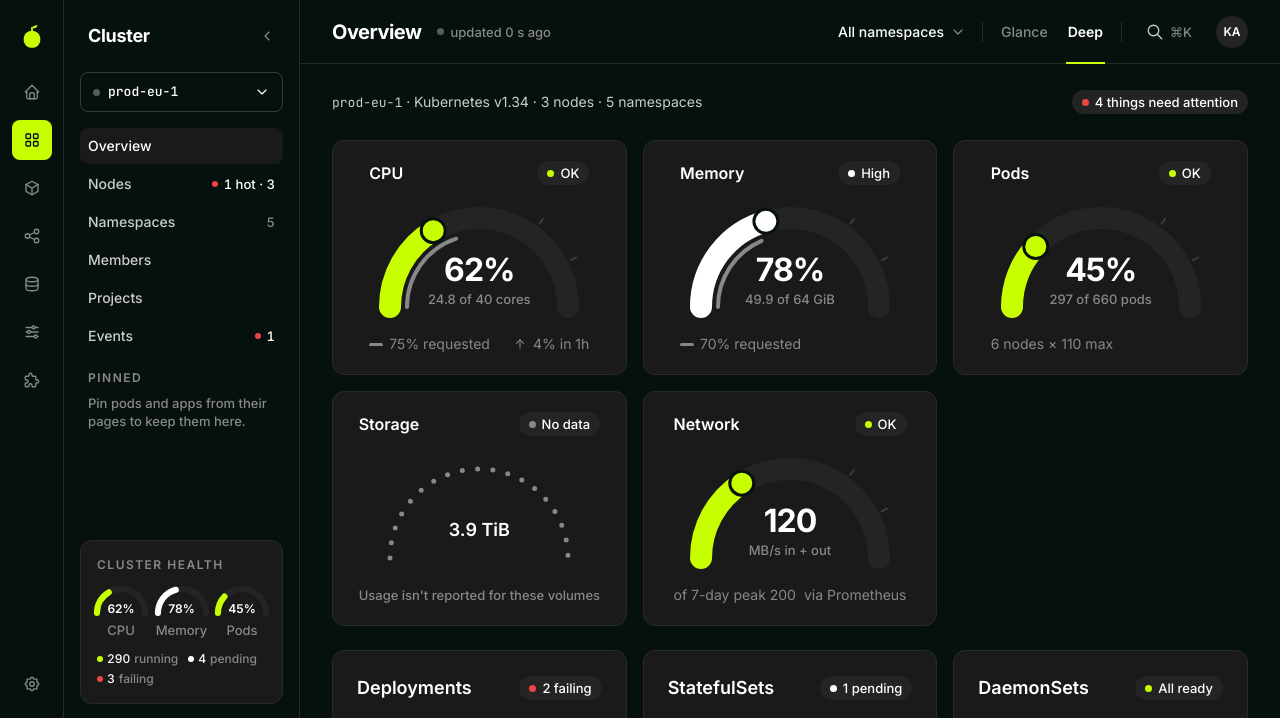
Test: search across clusters › waits for two letters and says when nothing matches
The image size is (1280, 718).
Type keys "{Meta>}k{/Meta}"
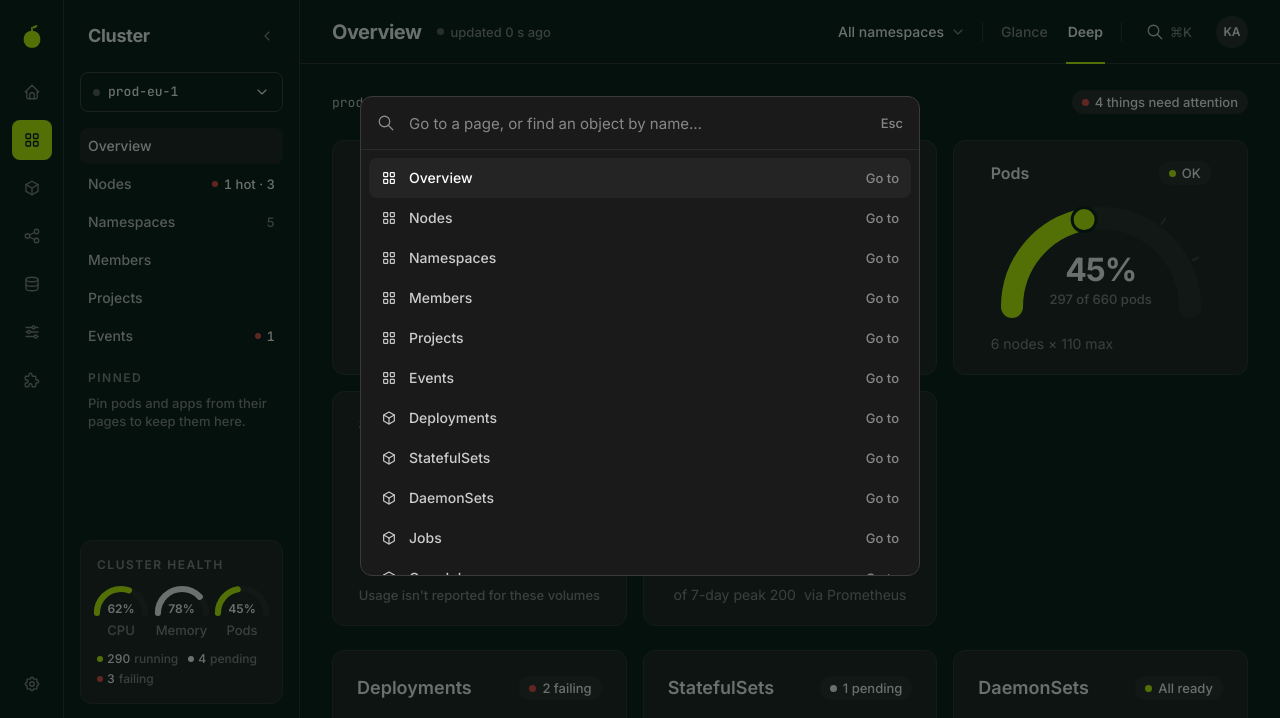
Type "z" into the dropdown named "Search pages, commands and objects" at point(638, 123), box [407,97,869,149]
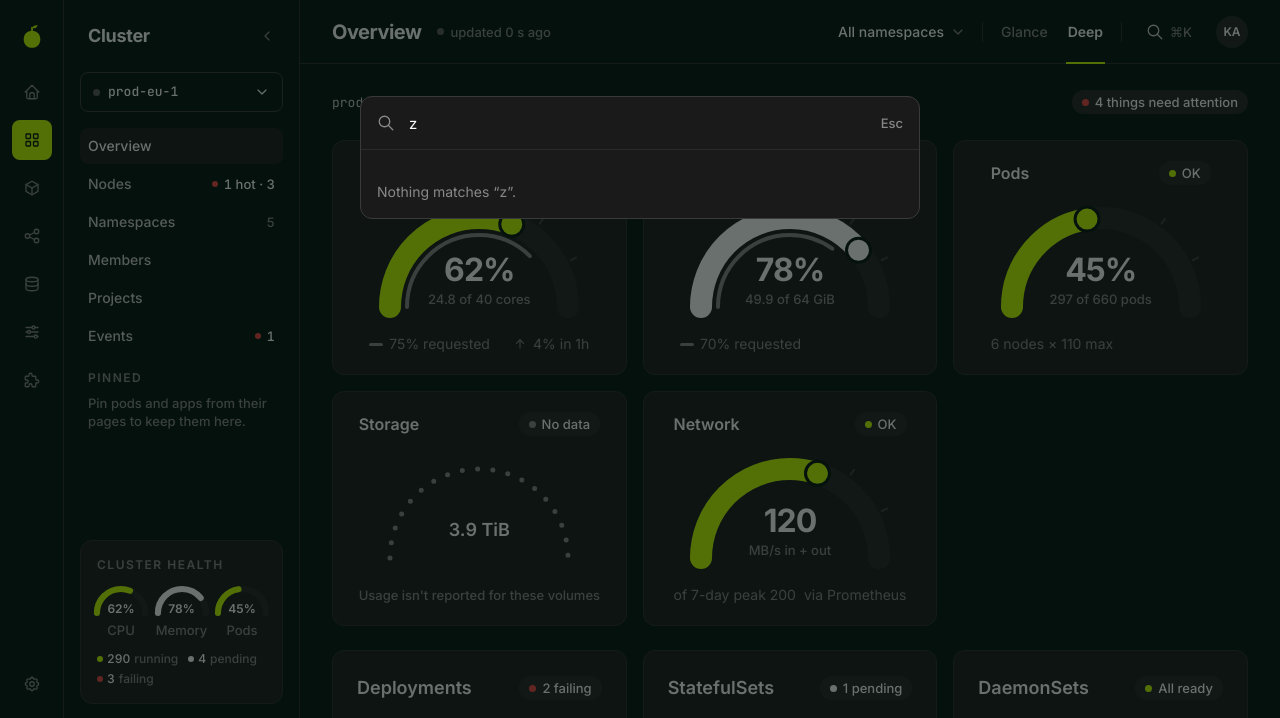
Type "zz" into the dropdown named "Search pages, commands and objects" at point(638, 123), box [407,97,869,149]
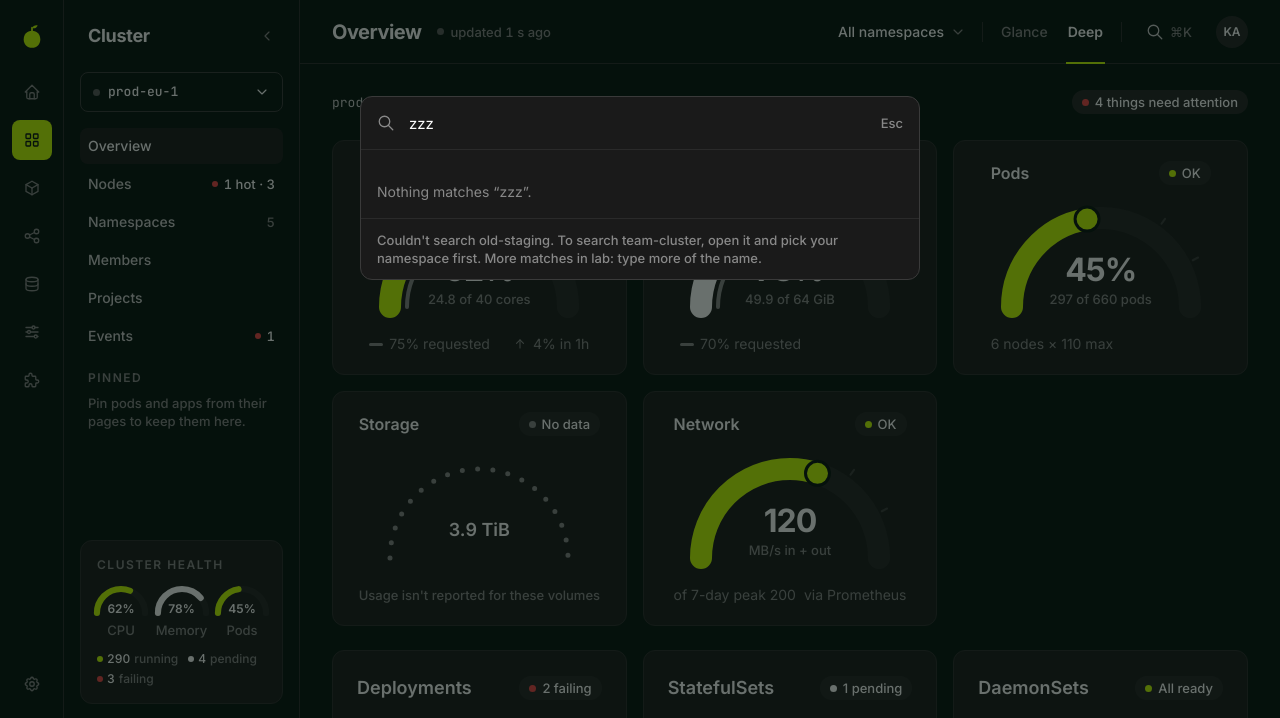
Expected: the text "Nothing matches “zzz”." is shown, [377,183,532,200]
